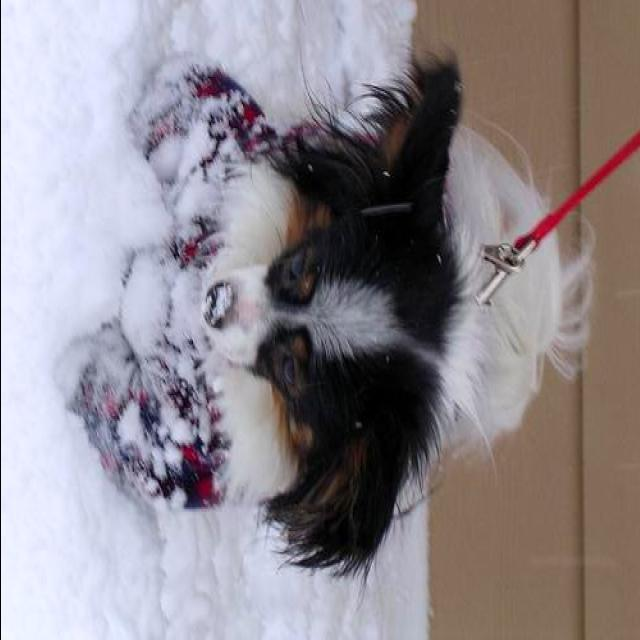papillon: (77, 48, 594, 587)
